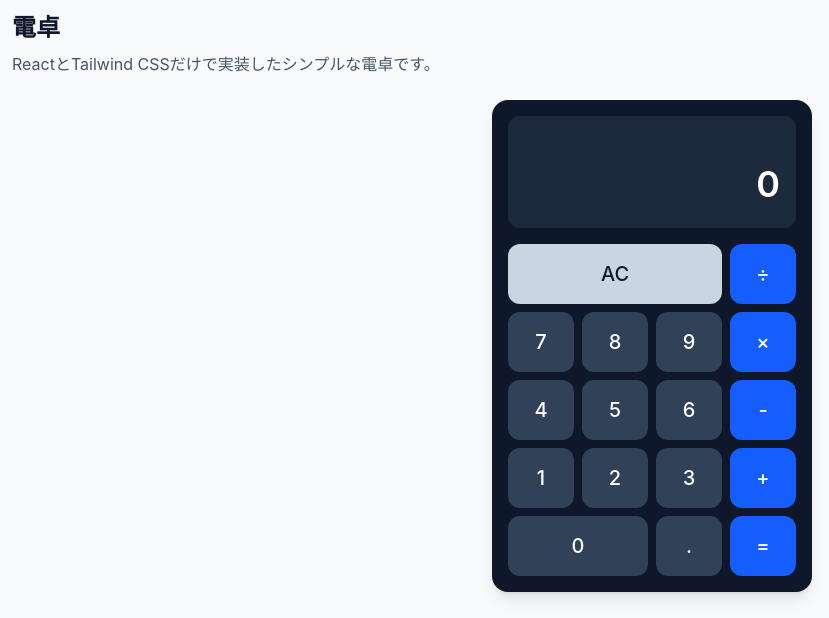
it: Calculator ページ › 連続演算: 5 + 3 + 2 = で 10 が表示される
This screenshot has width=829, height=618.
Click the button "5" at (615, 410), box [582,380,648,440]
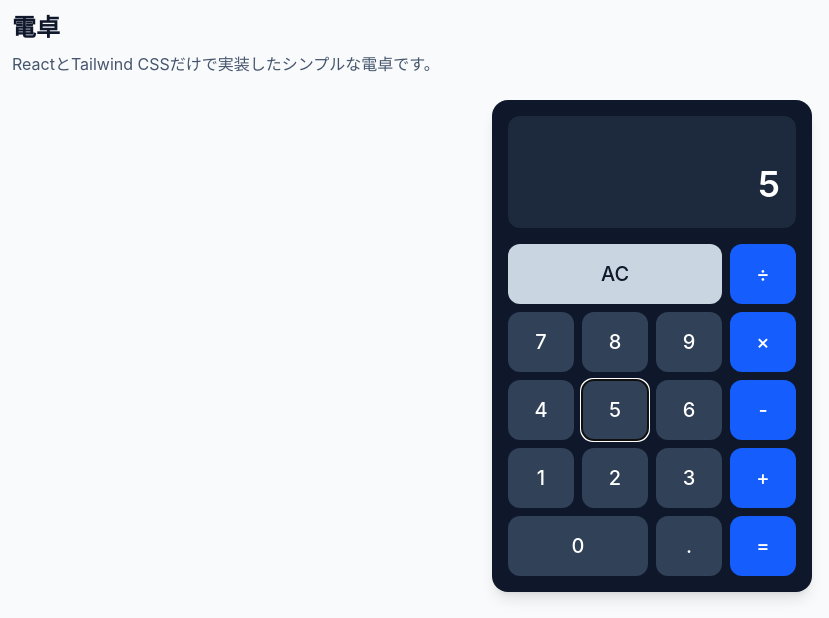
Click the button "+" at (763, 478), box [730,448,796,508]
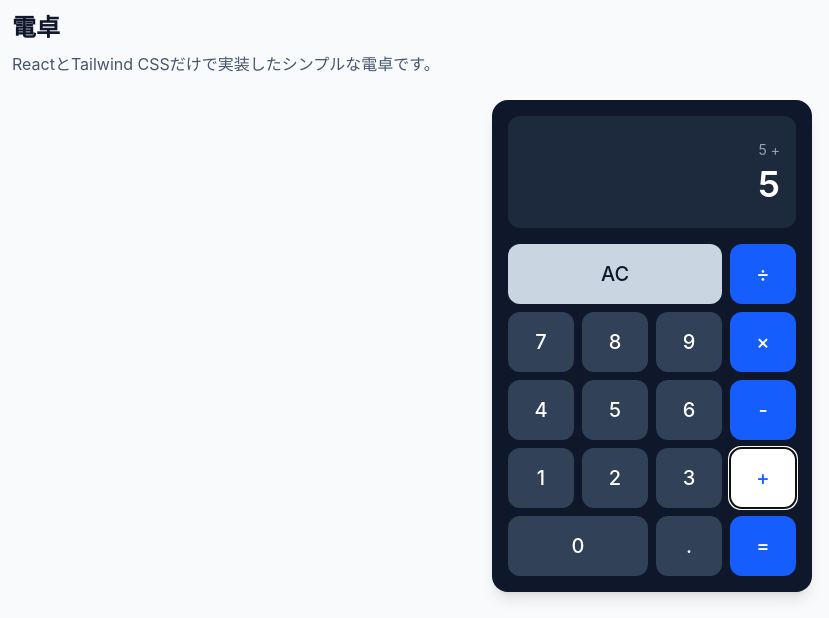
Click the button "3" at (689, 478), box [656,448,722,508]
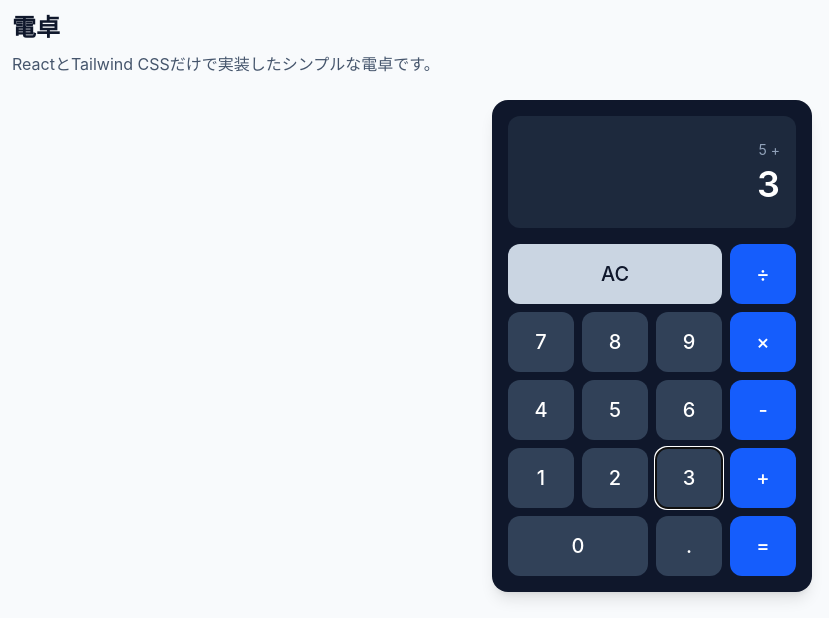
Click the button "+" at (763, 478), box [730,448,796,508]
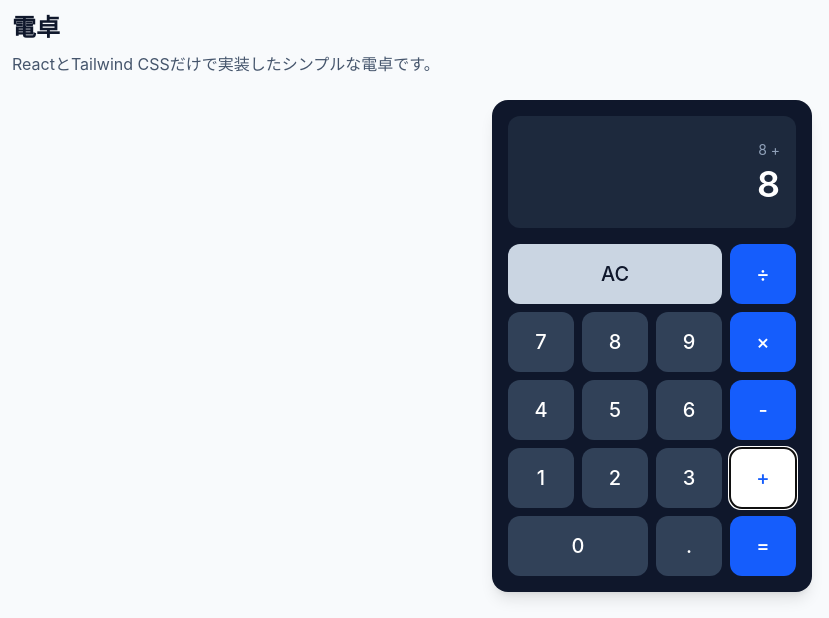
Click the button "2" at (615, 478), box [582,448,648,508]
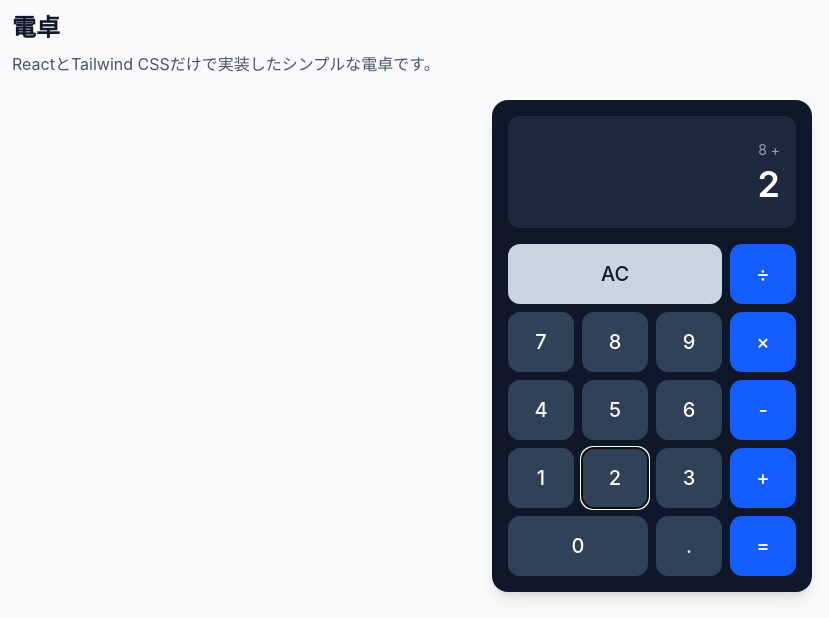
Click the button "=" at (763, 546), box [730,516,796,576]
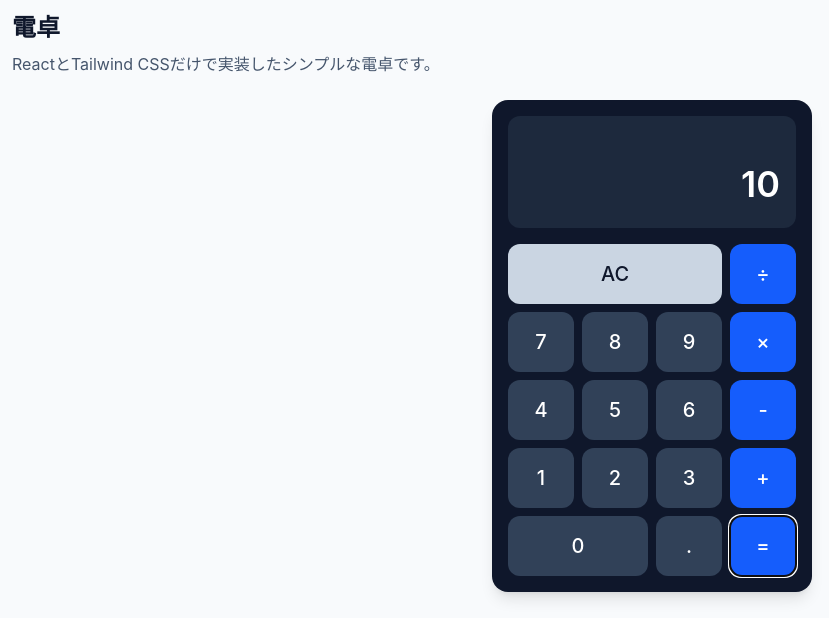
Expected: the text with test id "calculator-display" reads "10", [741,162,780,206]
